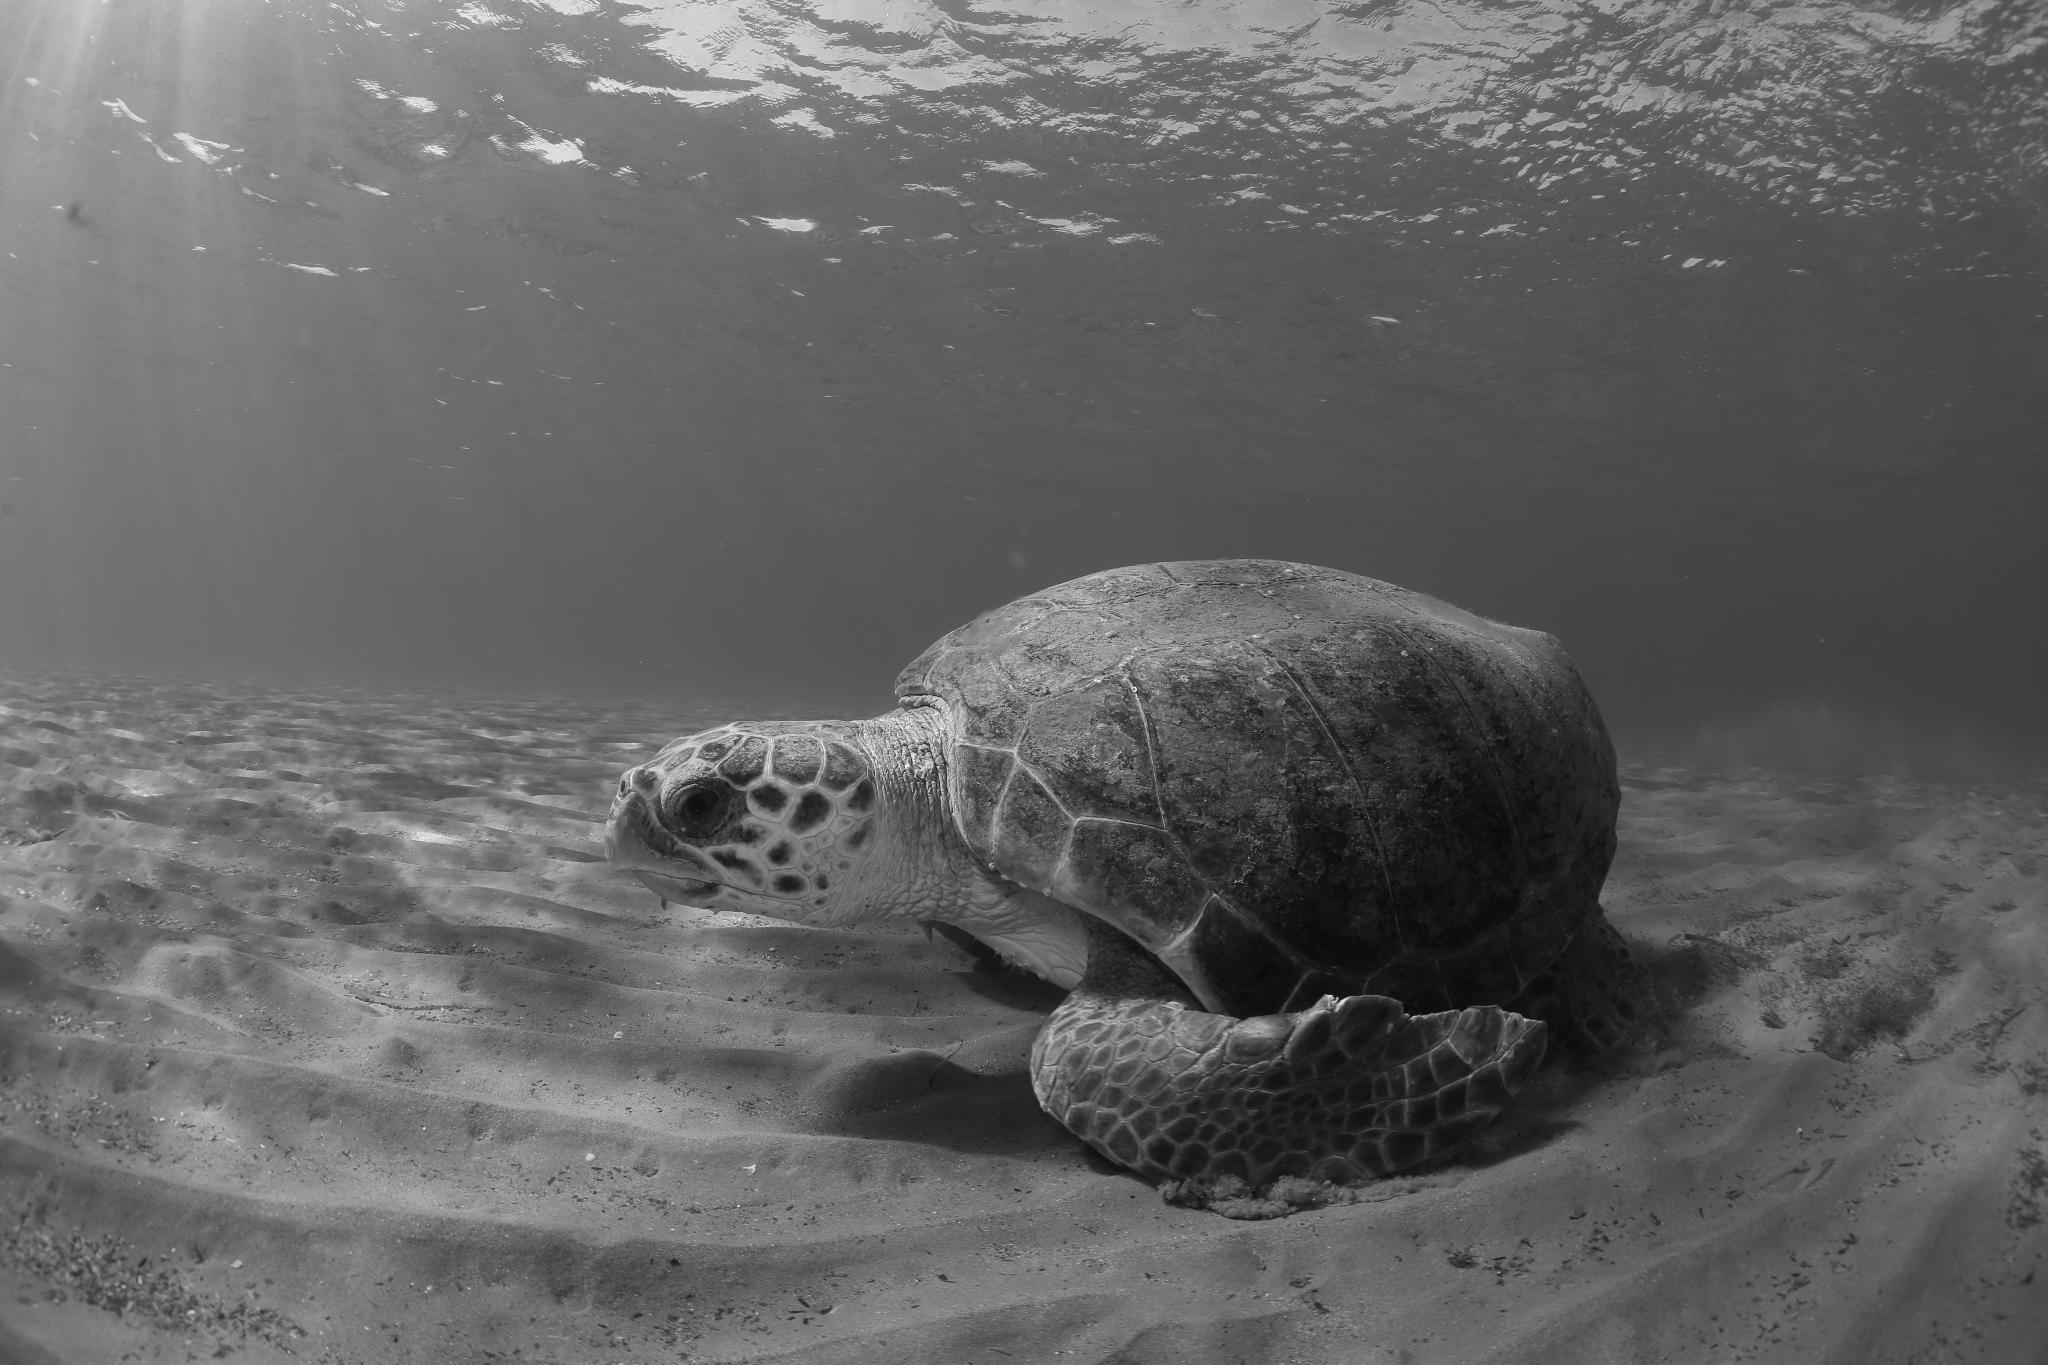Head: (605, 698, 966, 927)
